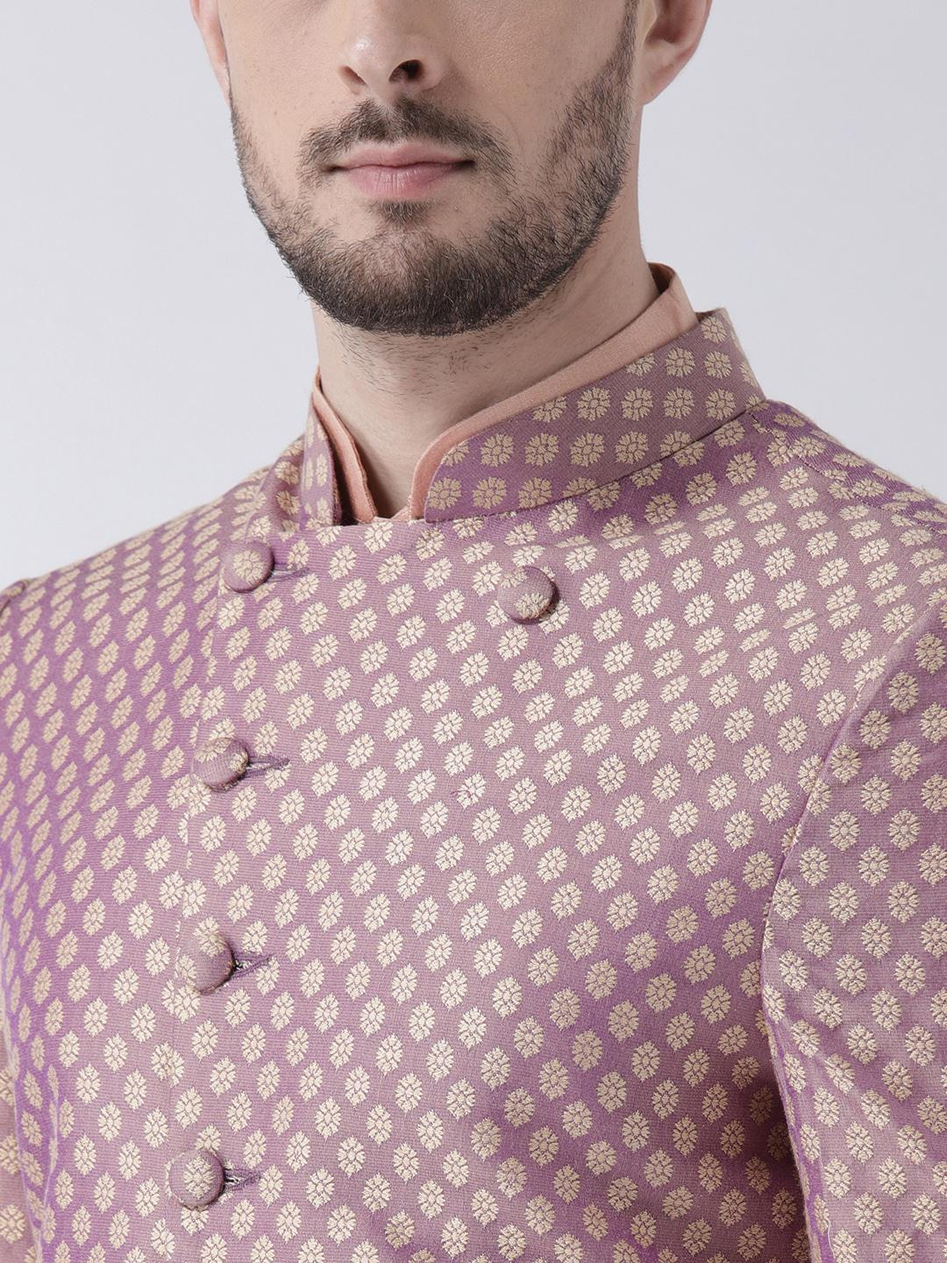Design Sherwani: (2, 306, 943, 1259)
